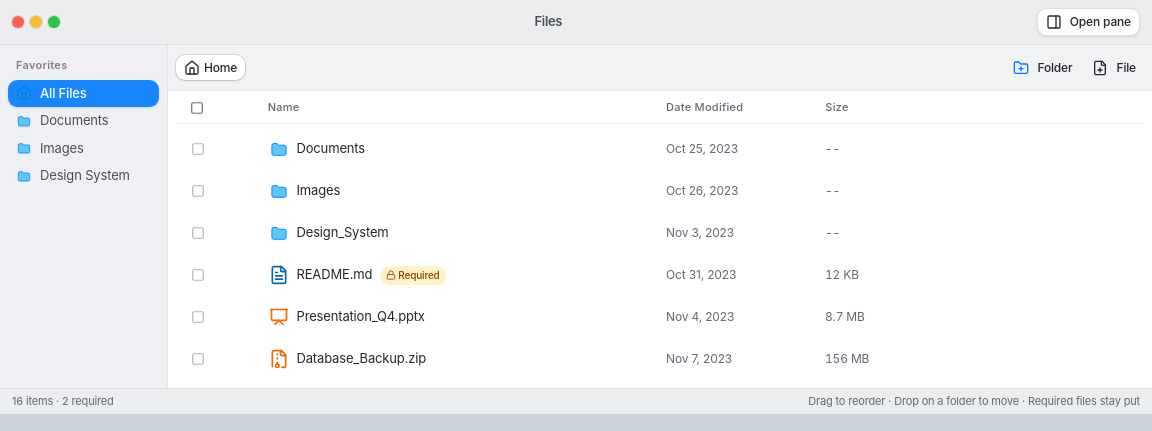
Test case: FileExplorer › deletes a selected file from the keyboard
Click the element with test id "row-file-13".
click(361, 316)  # box [189,307,865,327]
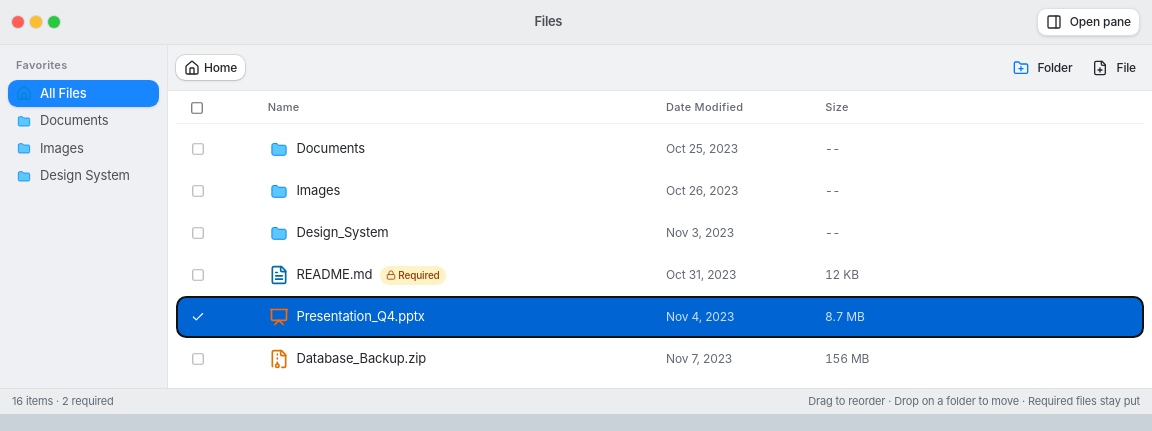
Press Delete
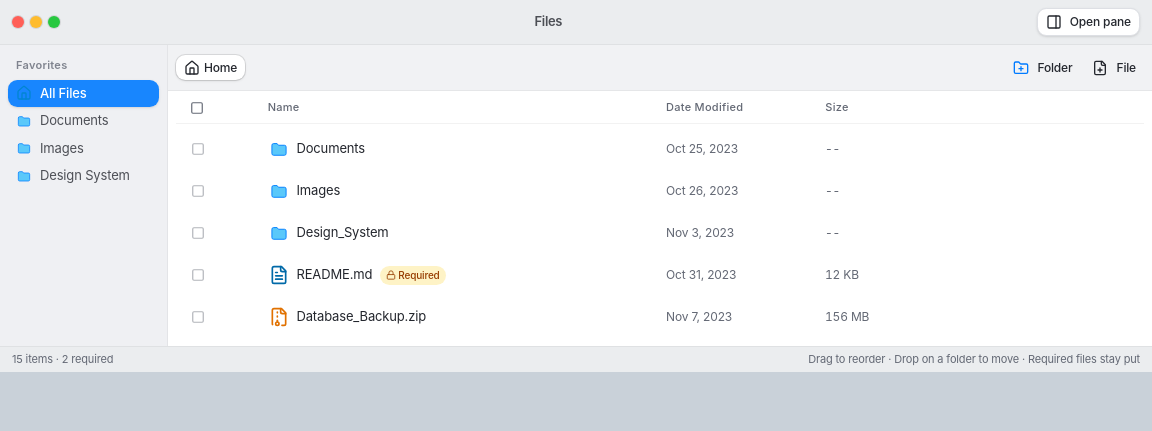
Result: the element with test id "row-file-13" is gone
